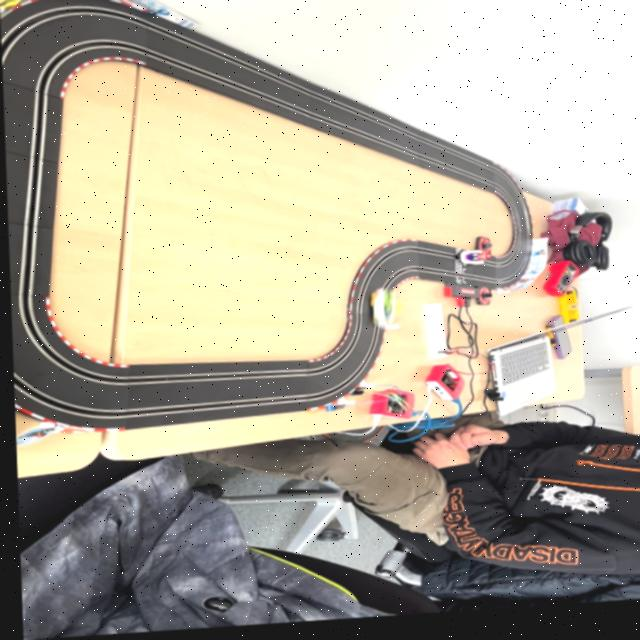mario: (454, 256, 492, 273)
yoshi: (366, 293, 399, 335)
